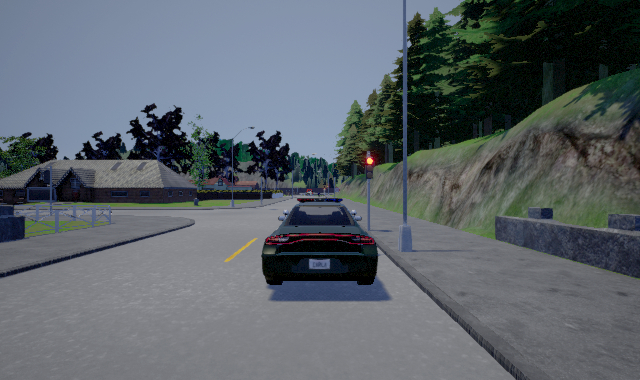traffic_light: (364, 155, 374, 179)
vehicle: (261, 198, 378, 285)
